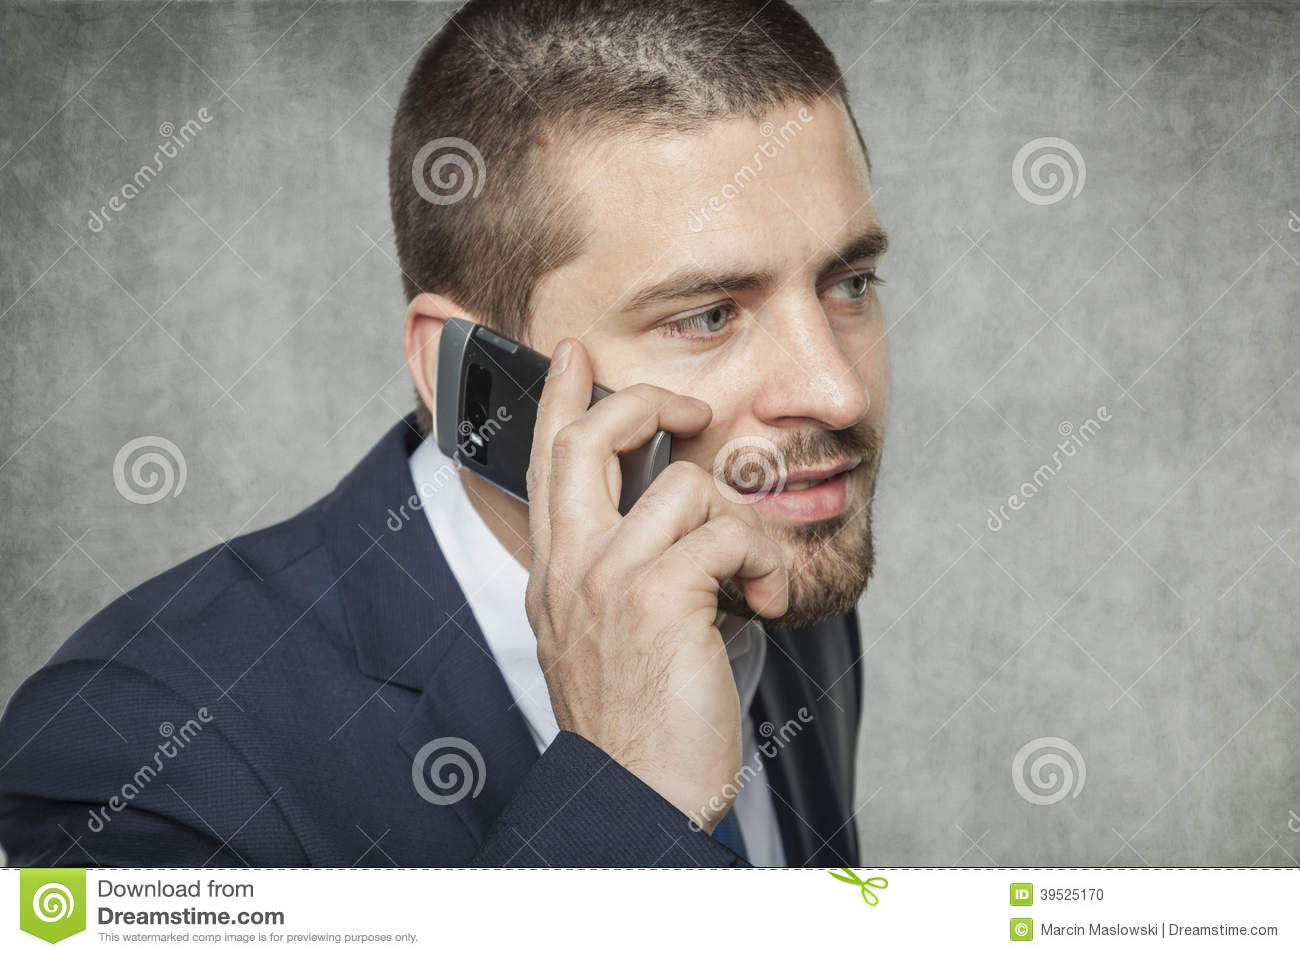phone: (438, 317, 671, 539)
talk: (430, 213, 892, 799)
